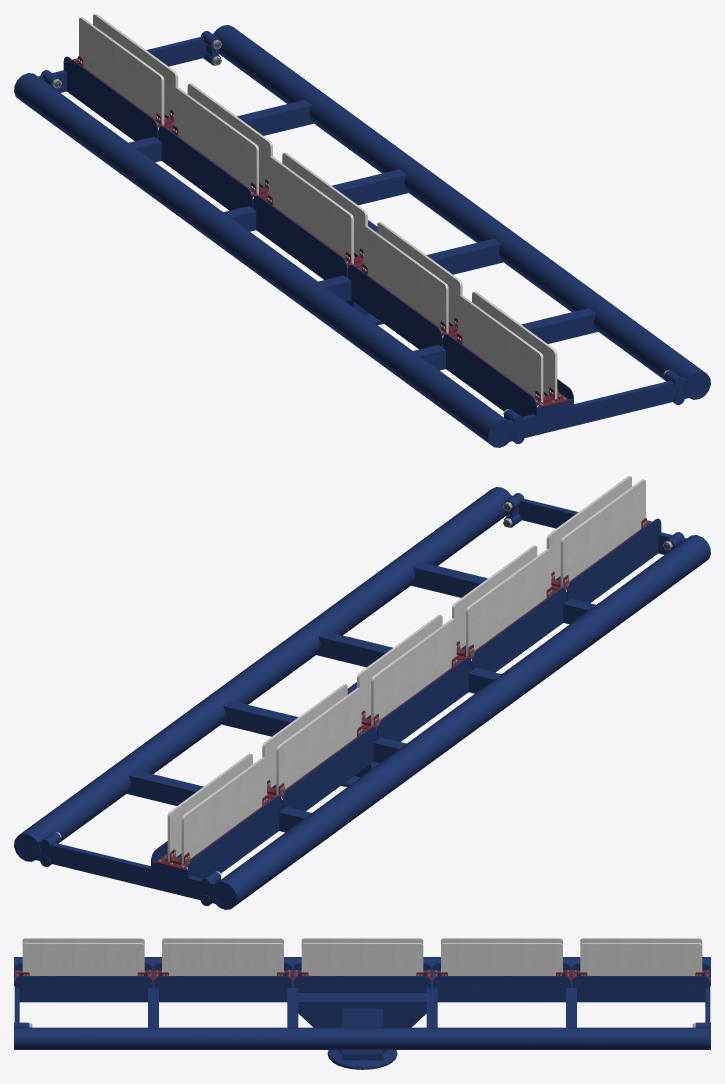
Rendered from Trim Section (Fixed).dae.
3 views of the same model, one above another, from view 1: azimuth 30°, elevation 25°; view 2: azimuth 150°, elevation 25°; view 3: azimuth 270°, elevation 25° (orthographic). The views are drawn at different scales.
Parts seen in each view (by area): view 1: Track (×7), Mid_Detail (×15); view 2: Track (×7), Mid_Detail (×15); view 3: Mid_Detail (×15), Track (×6).
Part boxes in pixels (x1=…): Track (×7): x1=14, y1=25, x2=710, y2=447; Mid_Detail (×15): x1=63, y1=14, x2=557, y2=416; Track (×7): x1=14, y1=487, x2=710, y2=909; Mid_Detail (×15): x1=167, y1=476, x2=661, y2=878; Mid_Detail (×15): x1=14, y1=938, x2=710, y2=1002; Track (×6): x1=14, y1=957, x2=710, y2=1069.
Bounding box in the file's own units: 53.48 × 197 × 30.68.
6 materials, 4 textured.
